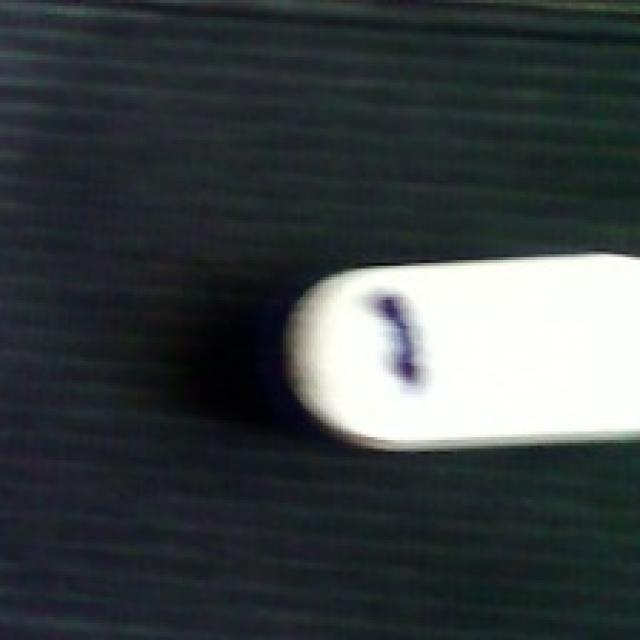defected: (274, 249, 637, 454)
